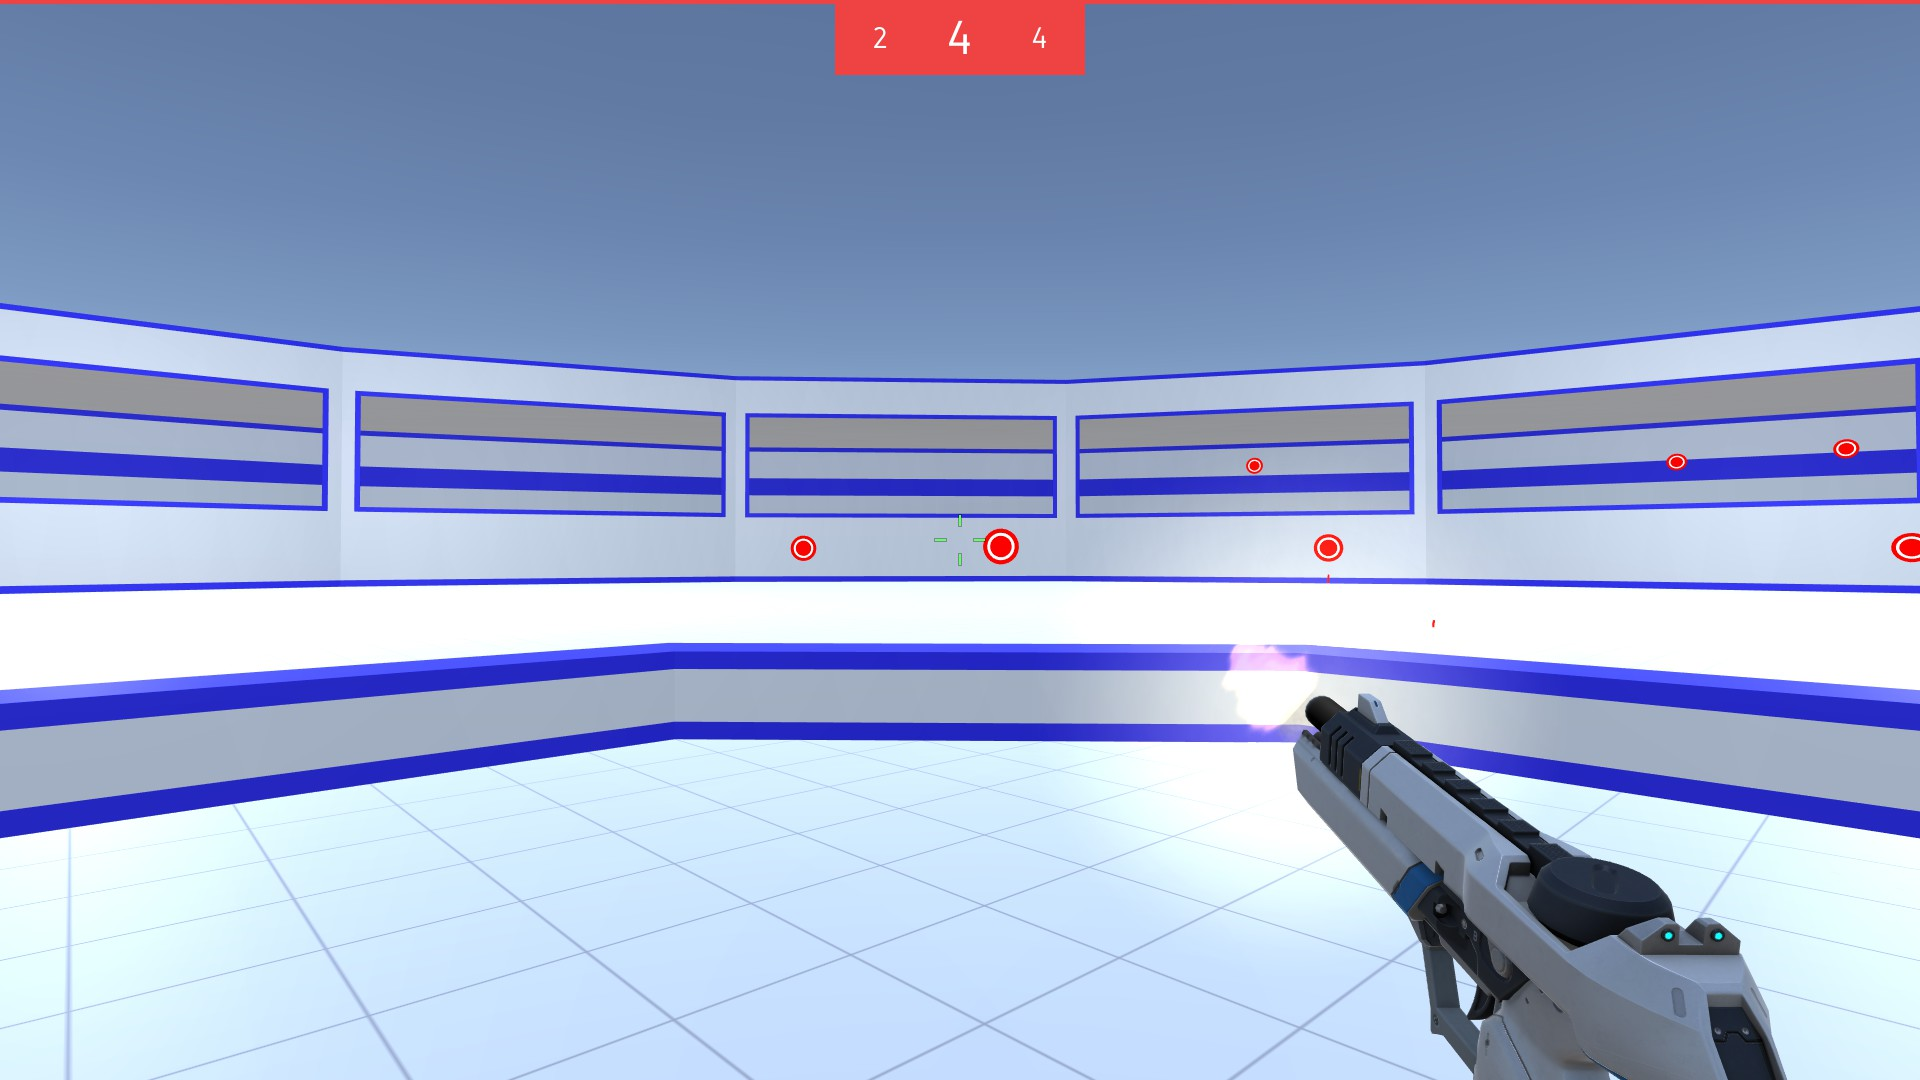target: (980, 527, 1021, 564), (1313, 531, 1345, 562), (789, 533, 818, 560), (1892, 531, 1920, 560), (1834, 436, 1861, 460), (1668, 451, 1687, 473), (1246, 456, 1263, 476)
